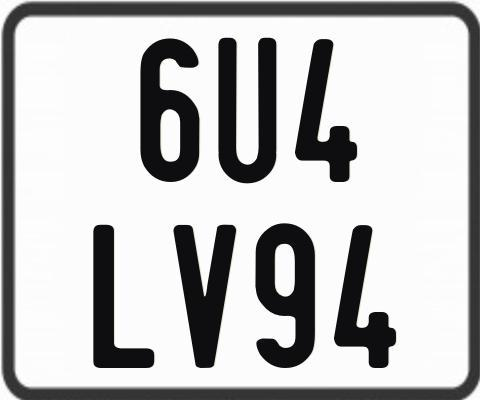4: (334, 222, 402, 366), (293, 37, 359, 185)
6: (140, 37, 199, 183)
9: (253, 222, 314, 369)
L: (92, 222, 159, 369)
U: (215, 35, 279, 181)
V: (171, 224, 234, 368)
